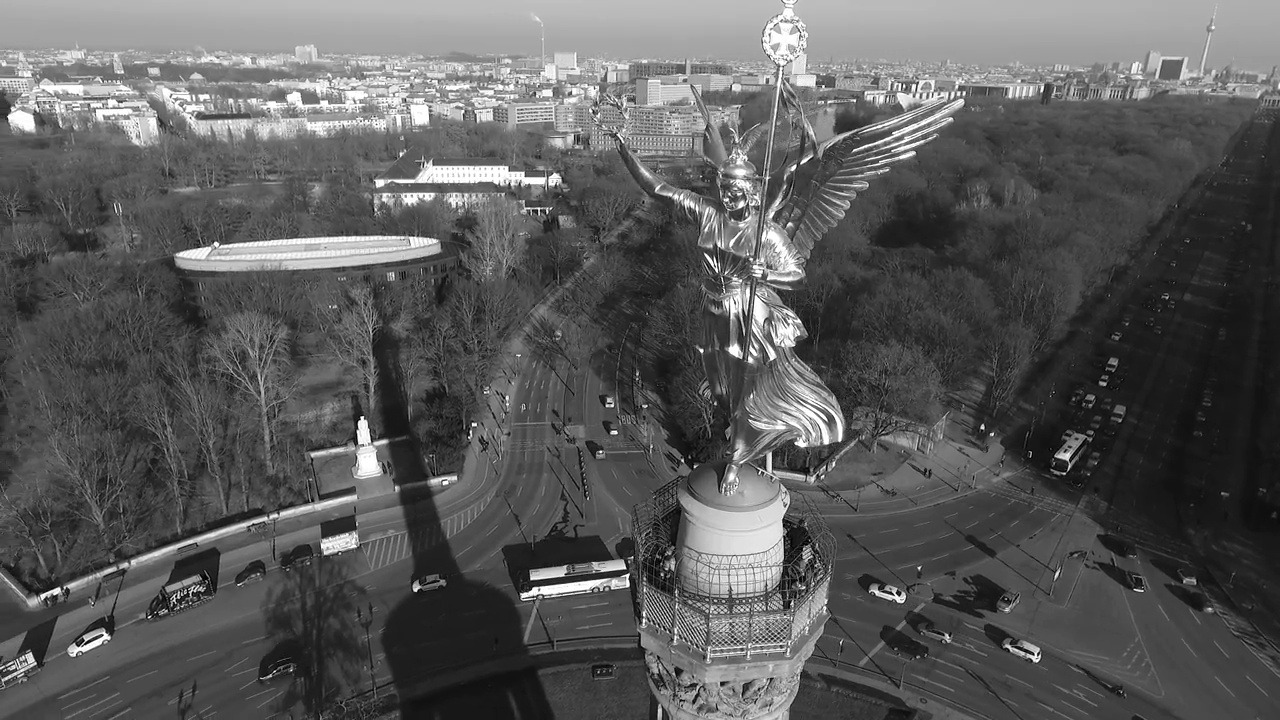bus: (511, 555, 640, 603)
car: (998, 628, 1048, 666), (865, 578, 912, 607)
